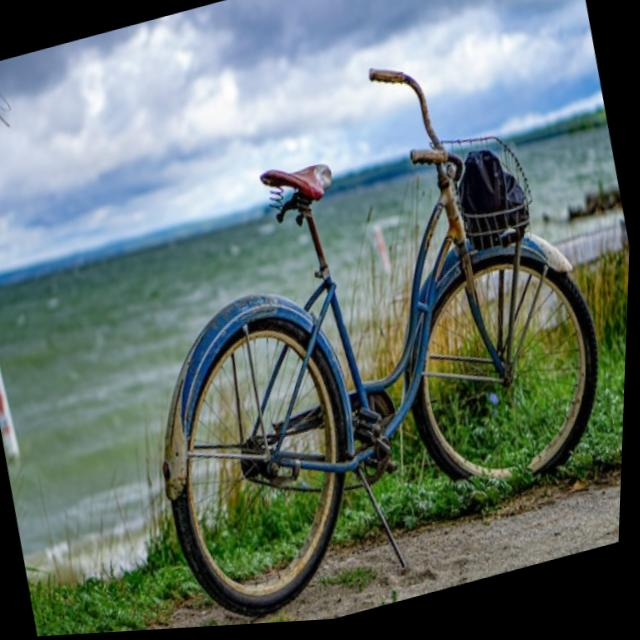urban-bike: (87, 25, 638, 635)
